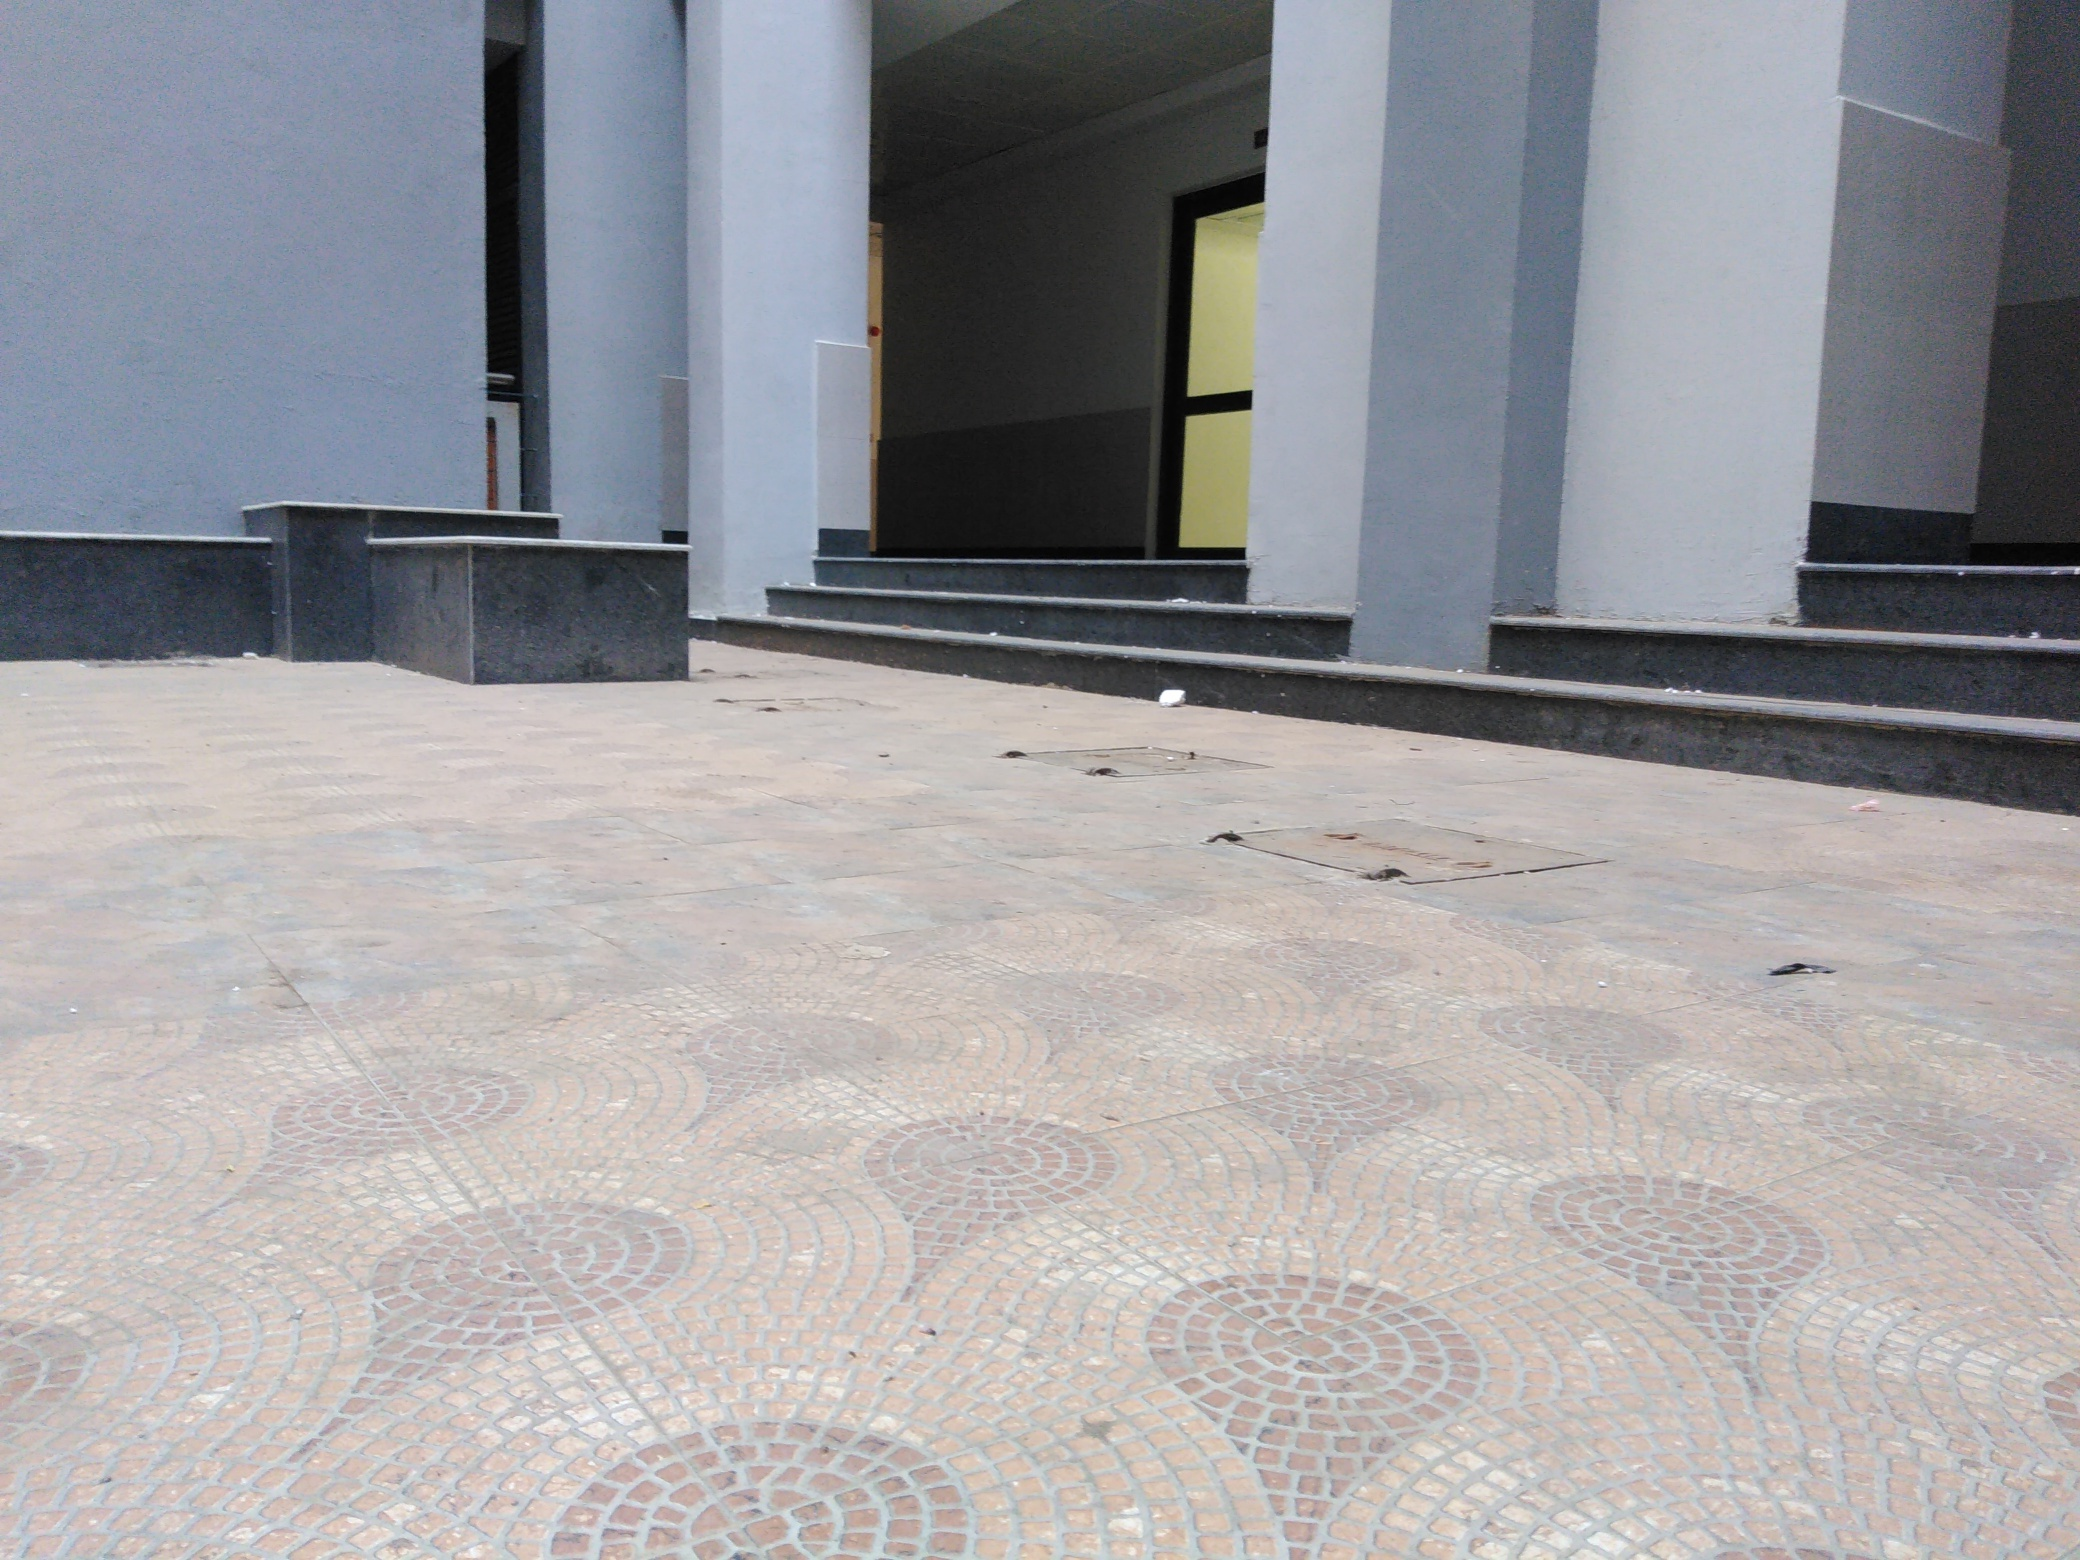stairs_up: (1512, 565, 2065, 737), (726, 551, 1287, 665)
